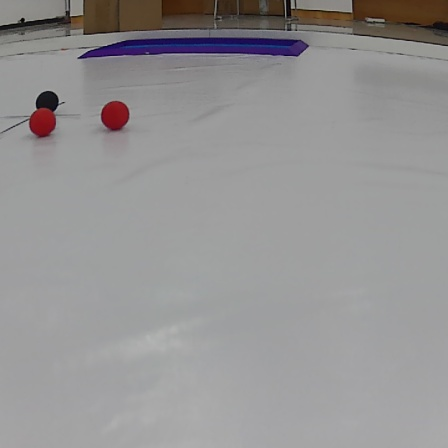black: (32, 90, 62, 112)
blue_aim: (78, 36, 312, 59)
red: (101, 98, 131, 131), (30, 110, 58, 139)
